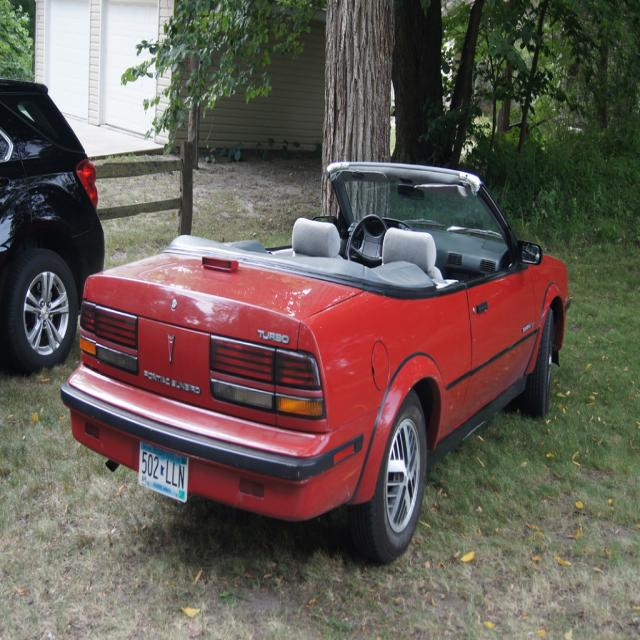car: (59, 156, 569, 565)
